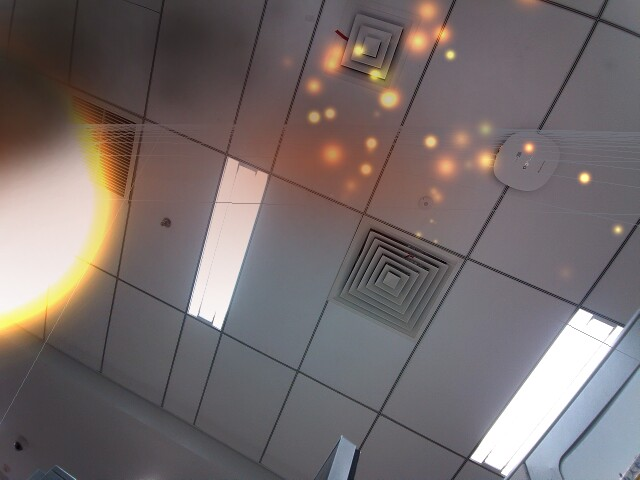fire: (0, 52, 126, 346)
